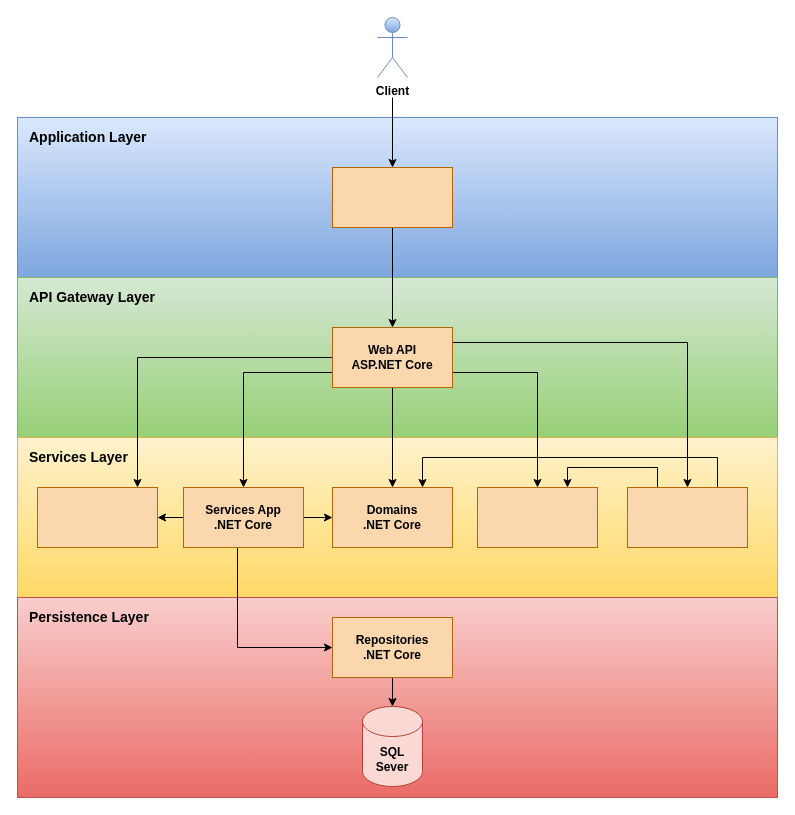
Image size: 795x815. Some labels were removed from this diagram. The centre of each missing label's shape, as x and y in pixels:
"Exceptions .NET Core" goes at [97,517].
"Mappers .NET Core" goes at [687,517].
"ViewModel .NET Core" goes at [537,517].
"Web Application ASP.NET Core MVC" goes at [392,197].
